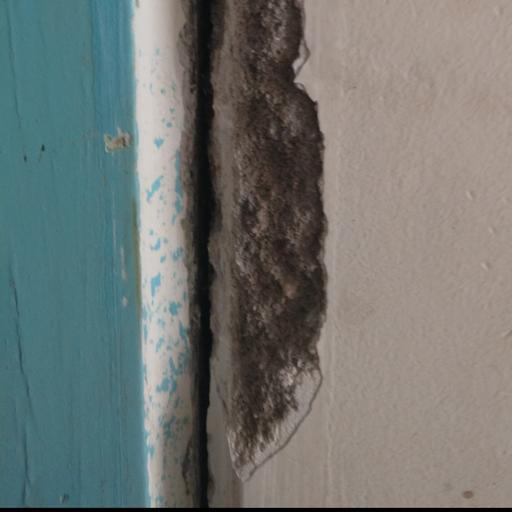spalling: (129, 3, 327, 512)
